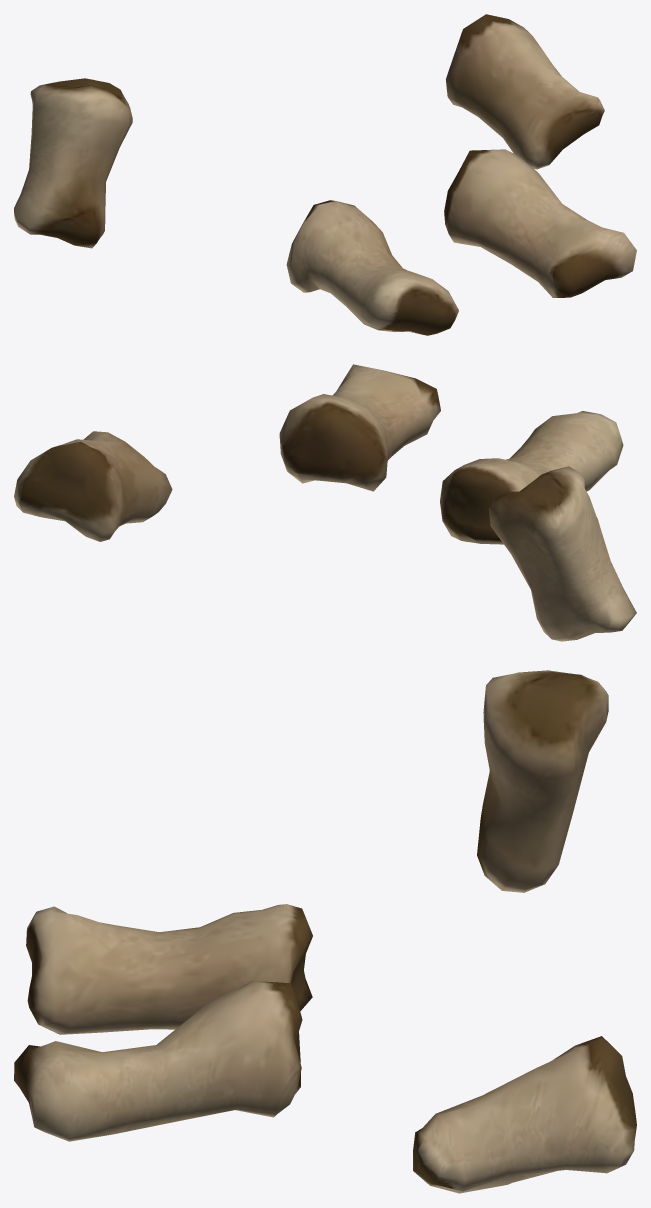
The model's file is Middle_Phalanges.glb.
3 renders of one model, top to bottom at view 1: azimuth 30°, elevation 25°; view 2: azimuth 150°, elevation 25°; view 3: azimuth 270°, elevation 25°, orthographic. The views are drawn at different scales.
Visible parts, largest first — view 1: polySurface38, polySurface36, polySurface39, polySurface37; view 2: polySurface36, polySurface38, polySurface39, polySurface37; view 3: polySurface38, polySurface37, polySurface39, polySurface36.
Boxes of the visible parts, x1,y1,x2,y2 form: polySurface38: (444,149,636,297); polySurface36: (14,78,132,248); polySurface39: (446,14,604,169); polySurface37: (286,200,458,335); polySurface36: (488,466,636,641); polySurface38: (279,364,440,491); polySurface39: (14,431,172,541); polySurface37: (440,411,623,544); polySurface38: (14,981,302,1141); polySurface37: (26,904,312,1034); polySurface39: (413,1036,636,1193); polySurface36: (477,670,608,892).
Size of the model in its own units: 48.75 by 14.72 by 34.27.
1 material, 1 textured.
